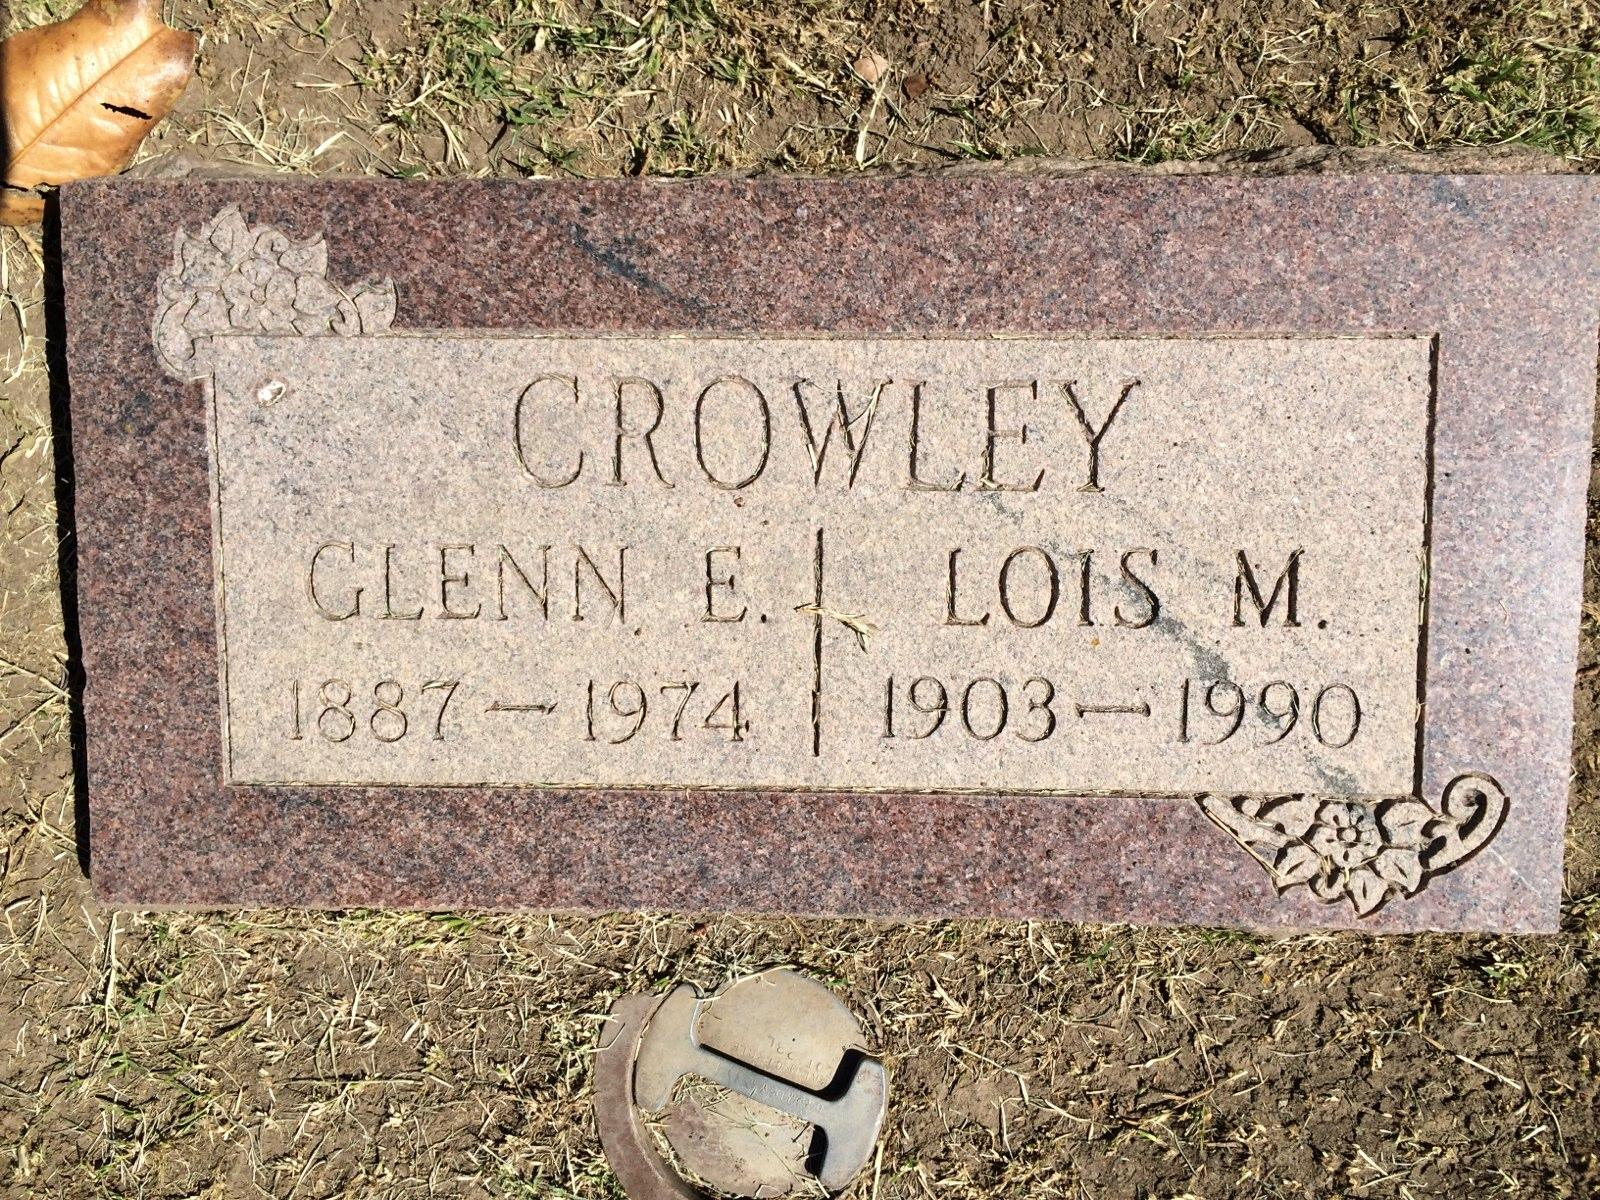flat: (47, 170, 1597, 939)
